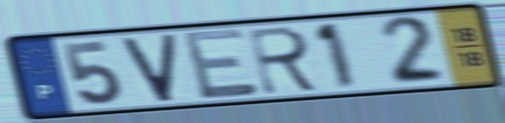1: (313, 21, 359, 91)
2: (376, 14, 449, 89)
5: (59, 38, 125, 108)
E: (179, 25, 263, 103)
R: (245, 24, 324, 97)
V: (117, 31, 179, 105)
